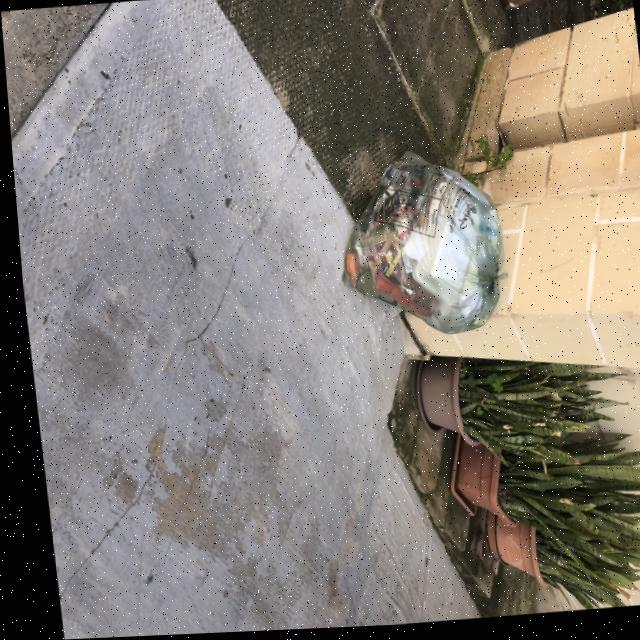Recycled Waste -Grey or Green Bag-: (320, 145, 517, 347)
